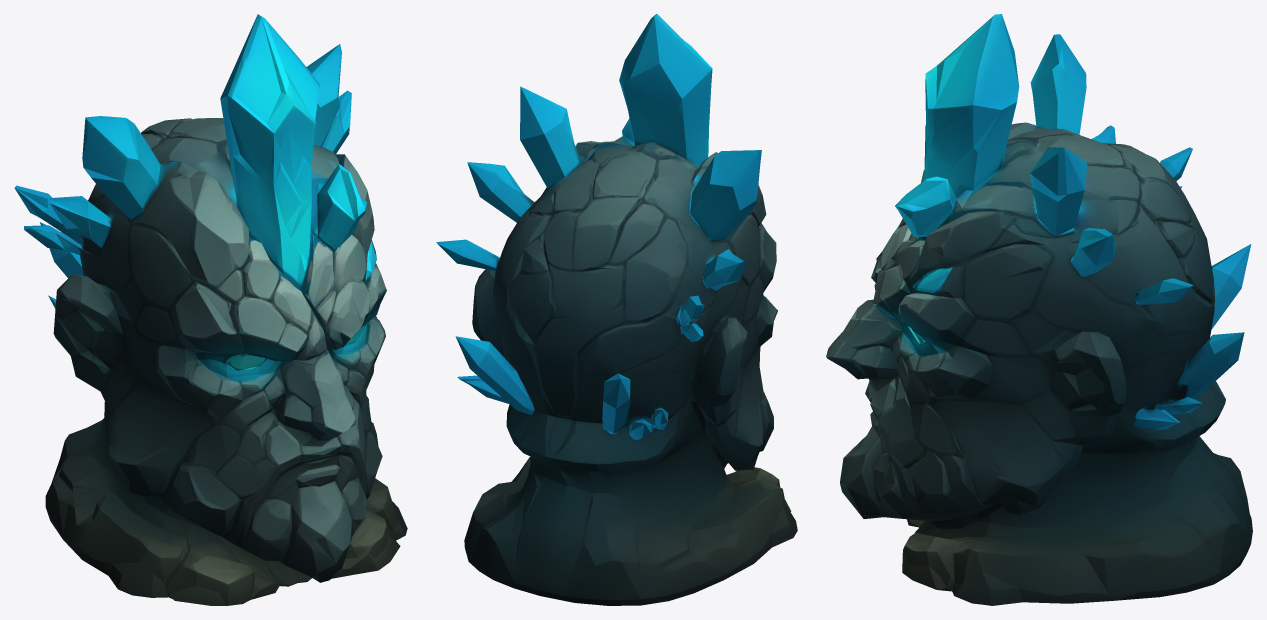
The model's file is SM_Ore36.fbx.
3 views of the same model, side by side, from view 1: azimuth 30°, elevation 25°; view 2: azimuth 150°, elevation 25°; view 3: azimuth 270°, elevation 25° (orthographic). The views are drawn at different scales.
Visible parts, largest first — view 1: Ore36; view 2: Ore36; view 3: Ore36.
Part boxes in pixels (left/top/right/bottom): Ore36: left=14, top=14, right=407, bottom=605; Ore36: left=436, top=14, right=797, bottom=605; Ore36: left=826, top=14, right=1252, bottom=605.
Bounding box in the file's own units: 102 × 173 × 127.
Materials: 1 (1 with a texture image).
